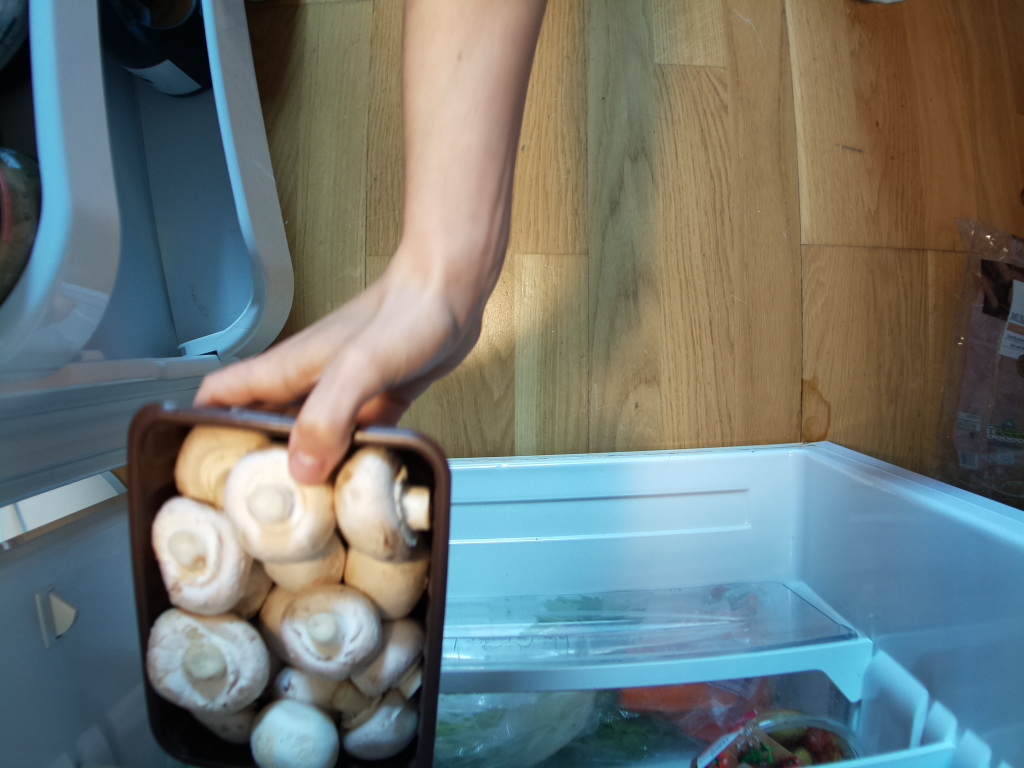mushrooms: (120, 395, 455, 767)
